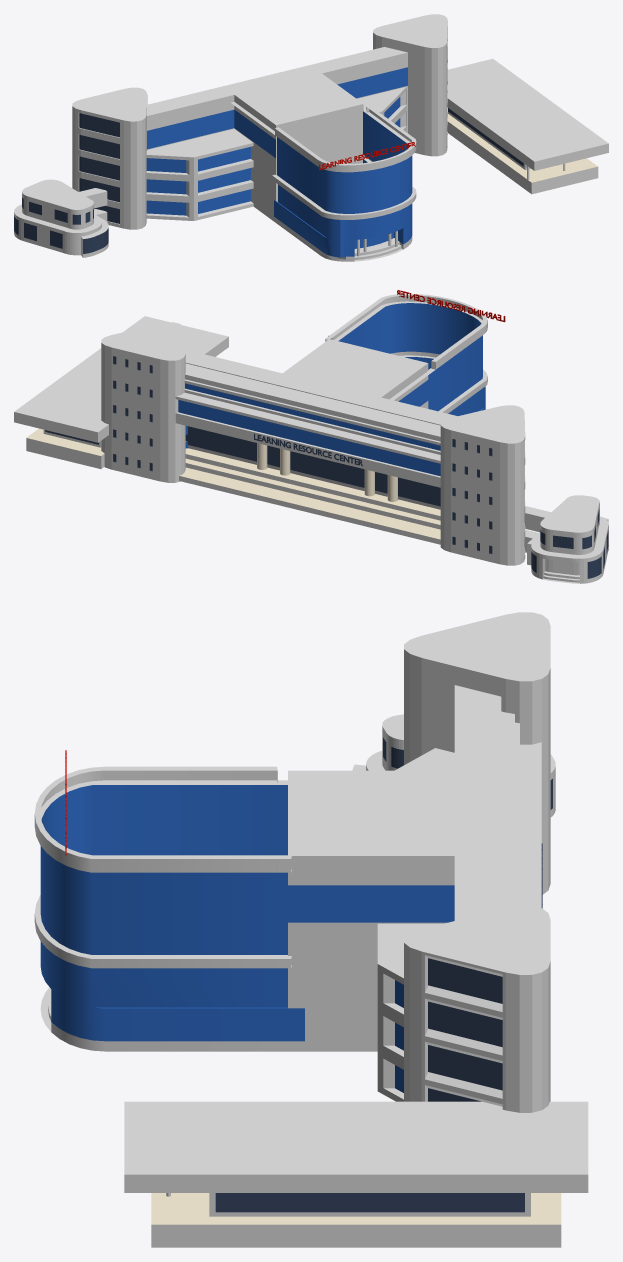
File: LRC.fbx
The picture shows the model from 3 angles, top to bottom: view 1: azimuth 30°, elevation 25°; view 2: azimuth 150°, elevation 25°; view 3: azimuth 270°, elevation 25°; orthographic projection. The views are drawn at different scales.
Visible parts, largest first — view 1: Cube, Cylinder, Cube.001, Cube.003, Cylinder.001, Cylinder.002, Cube.002, Text.001, Cube.004; view 2: Cube, Cylinder.001, Cylinder.002, Cylinder, Cube.001, Cube.002, Text.001, Text, Cube.004; view 3: Cylinder, Cube.001, Cube, Cylinder.002, Cylinder.001, Cube.003, Cube.002.
Boxes of the visible parts, box(x1,y1,x2,y2) form: Cube: box(147, 47, 407, 219); Cylinder: box(231, 102, 416, 261); Cube.001: box(447, 58, 608, 194); Cube.003: box(146, 86, 406, 220); Cylinder.001: box(72, 87, 147, 229); Cylinder.002: box(373, 14, 447, 156); Cube.002: box(14, 179, 108, 257); Text.001: box(319, 142, 415, 170); Cube.004: box(79, 188, 107, 208); Cube: box(175, 339, 457, 544); Cylinder.001: box(440, 405, 525, 565); Cylinder.002: box(101, 322, 185, 482); Cylinder: box(325, 293, 487, 415); Cube.001: box(14, 316, 228, 468); Cube.002: box(527, 495, 608, 583); Text.001: box(397, 290, 505, 322); Text: box(254, 433, 362, 466); Cube.004: box(524, 506, 550, 532); Cylinder: box(34, 766, 304, 1051); Cube.001: box(124, 1101, 588, 1247); Cube: box(288, 685, 541, 1051); Cylinder.002: box(404, 905, 550, 1112); Cylinder.001: box(404, 612, 550, 894); Cube.003: box(377, 748, 454, 1101); Cube.002: box(352, 714, 555, 817).
Bounding box in the file's own units: 7186 × 1534 × 3461.
